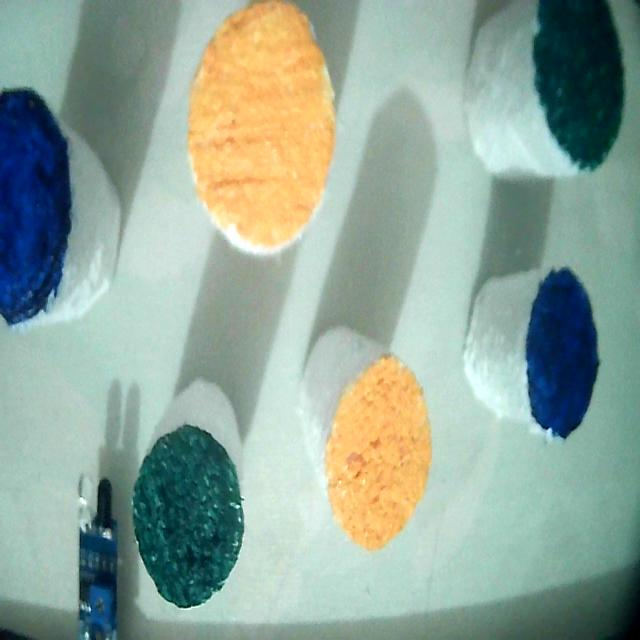blue: (0, 89, 71, 325), (526, 268, 598, 438)
green: (133, 420, 244, 607), (534, 0, 623, 168)
yellow: (187, 0, 335, 255), (324, 356, 430, 550)
